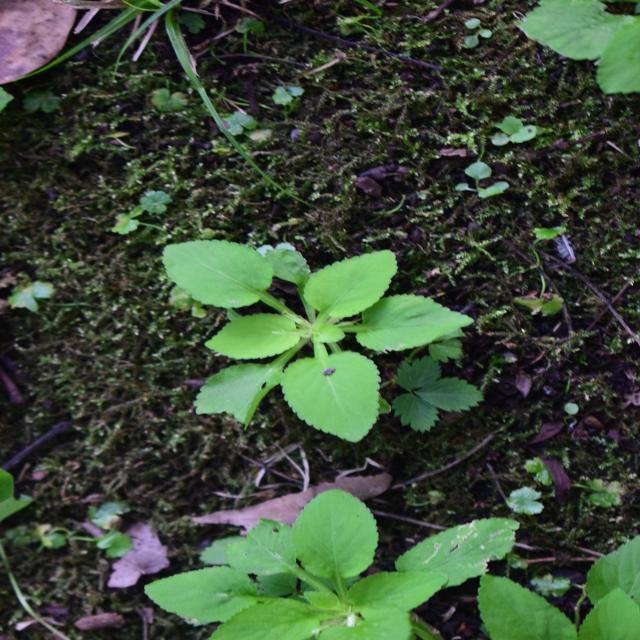Viola: (193, 146, 408, 468)
